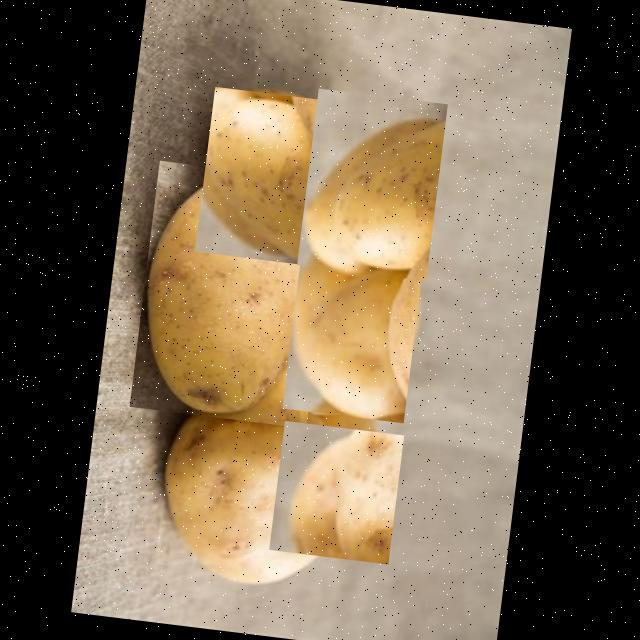Potato: (128, 160, 335, 428), (194, 87, 412, 276), (150, 390, 344, 595), (296, 87, 446, 280), (281, 253, 421, 423), (268, 420, 402, 564)
